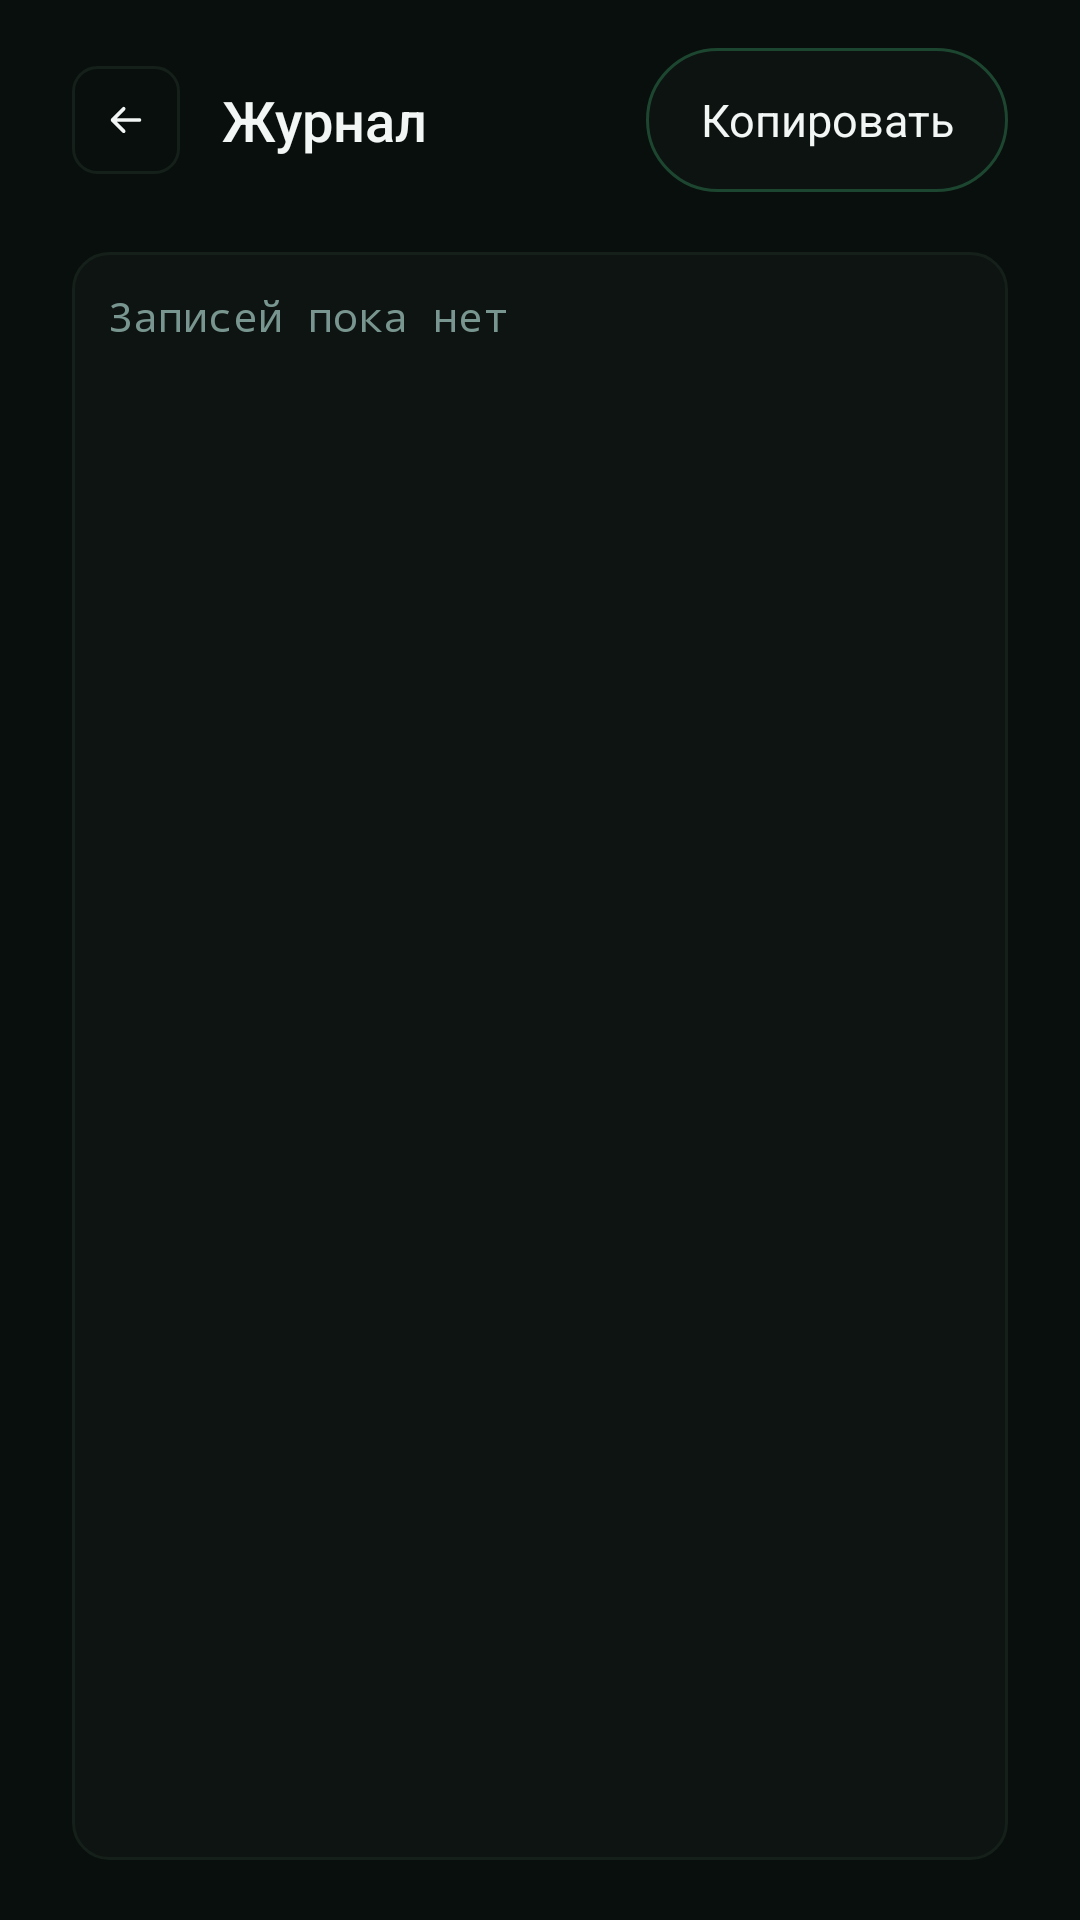

Icons on this 1080 × 1920 Android screen, each with its box as (x1, y1, x2, y2):
Назад: (110, 106, 142, 133)
